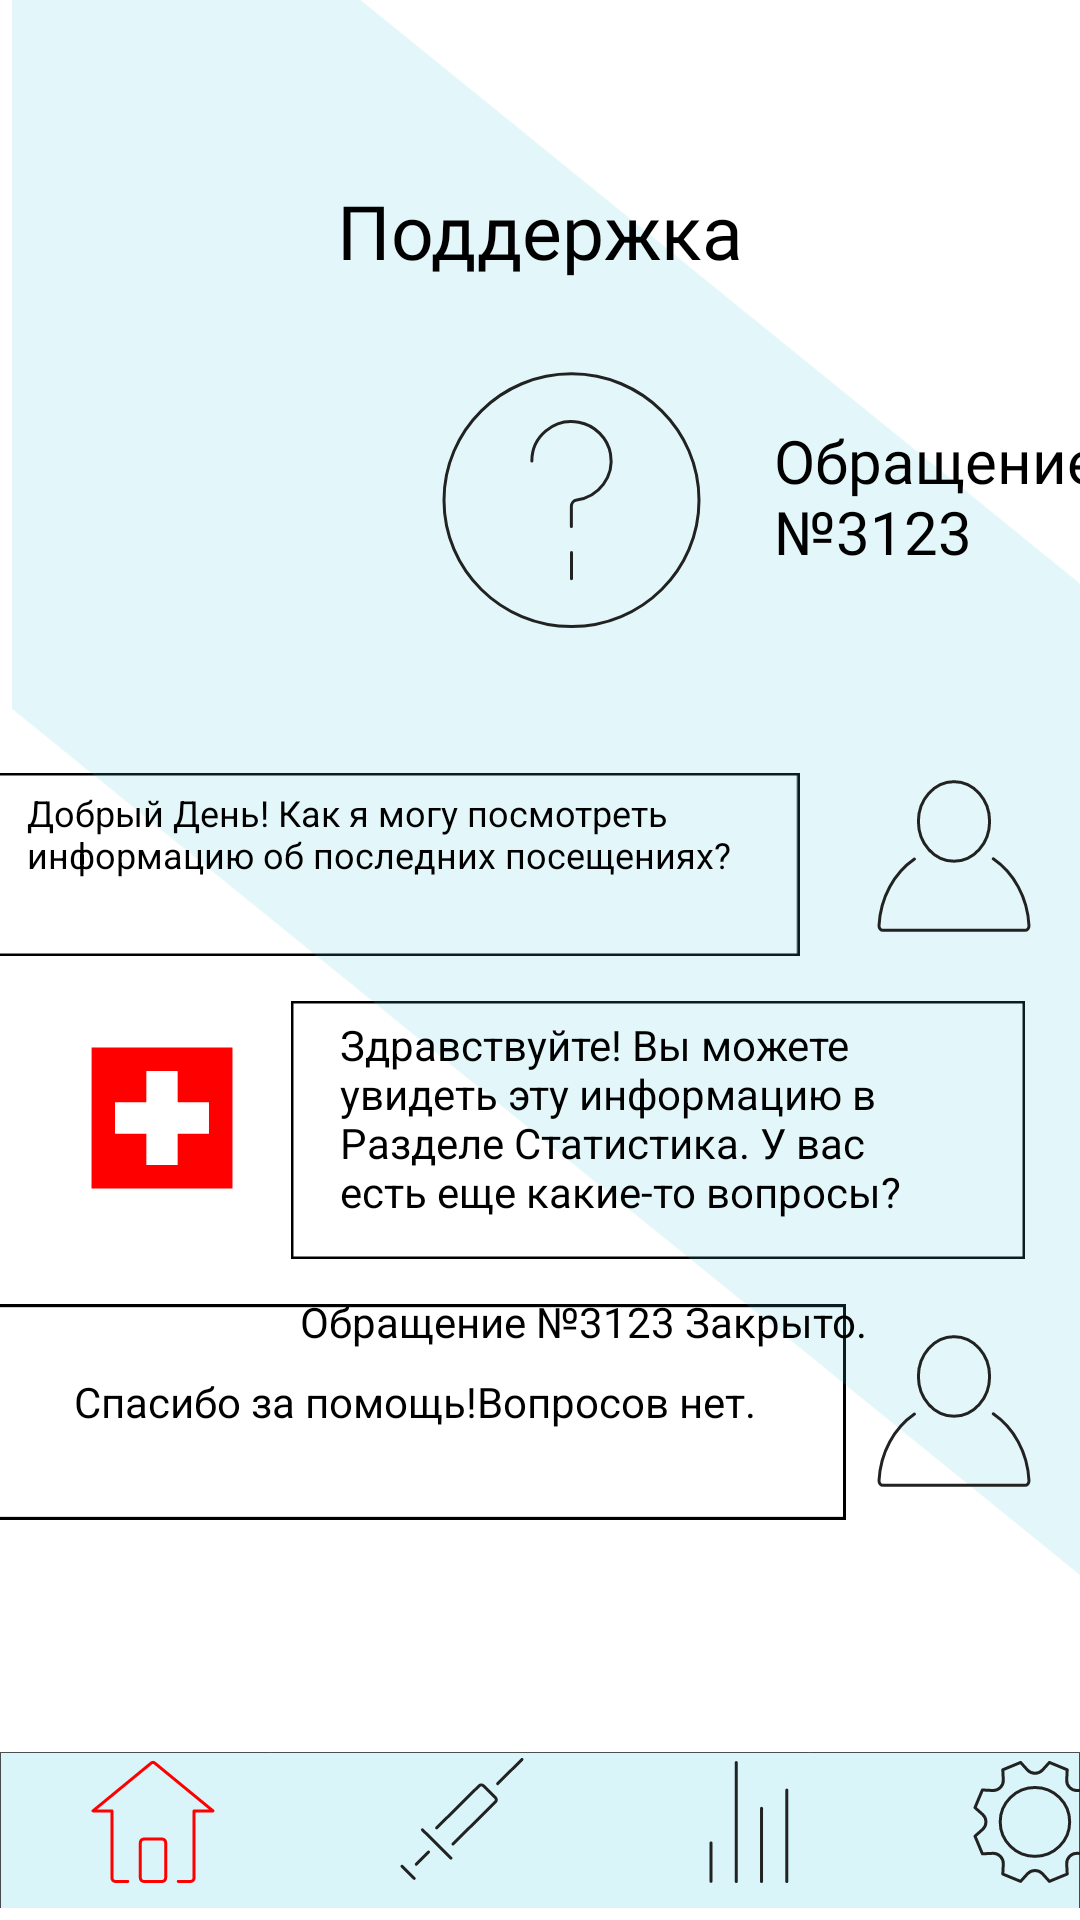

Named icons in this screenshot (1080px x 1920px) and their centers, [x,y]:
bar graph: [749,1822]
home: [153,1822]
profile: [954,856], [953,1411]
question: [571,500]
